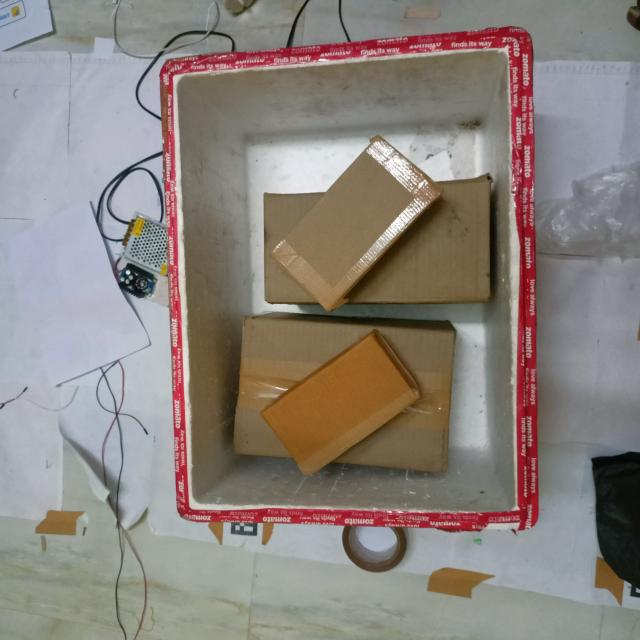box: (271, 133, 440, 308), (266, 338, 420, 481)
